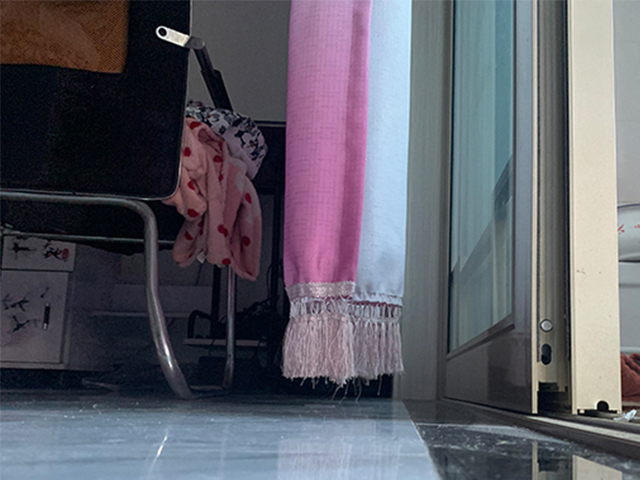cabinet: (1, 232, 122, 393)
curtain: (279, 1, 403, 390)
stool: (1, 1, 240, 401)
